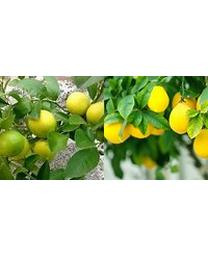lemon: (28, 110, 56, 138), (170, 103, 193, 134), (1, 129, 25, 158), (66, 92, 90, 115), (148, 86, 169, 112)
